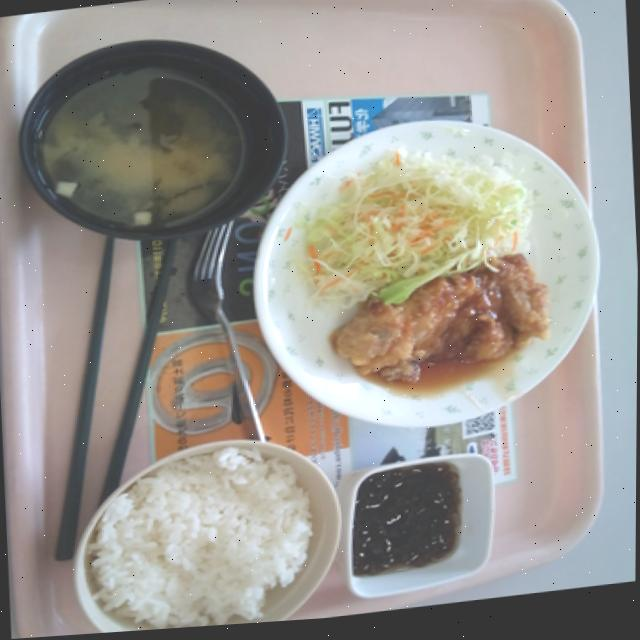米饭主食: (52, 426, 357, 637)
